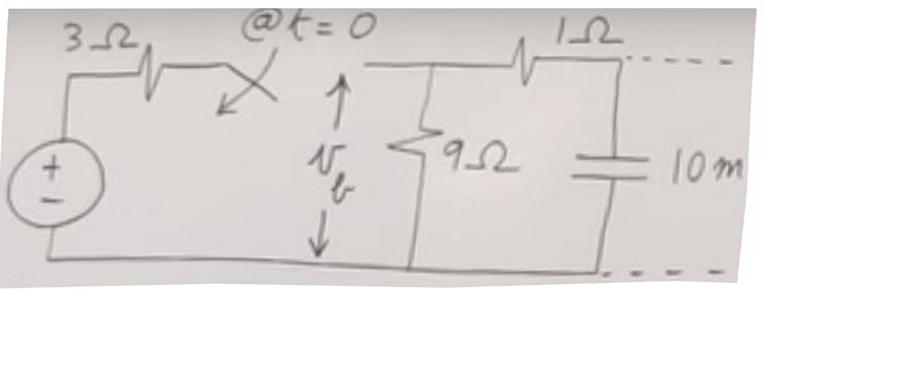Battery: (0, 122, 121, 242)
